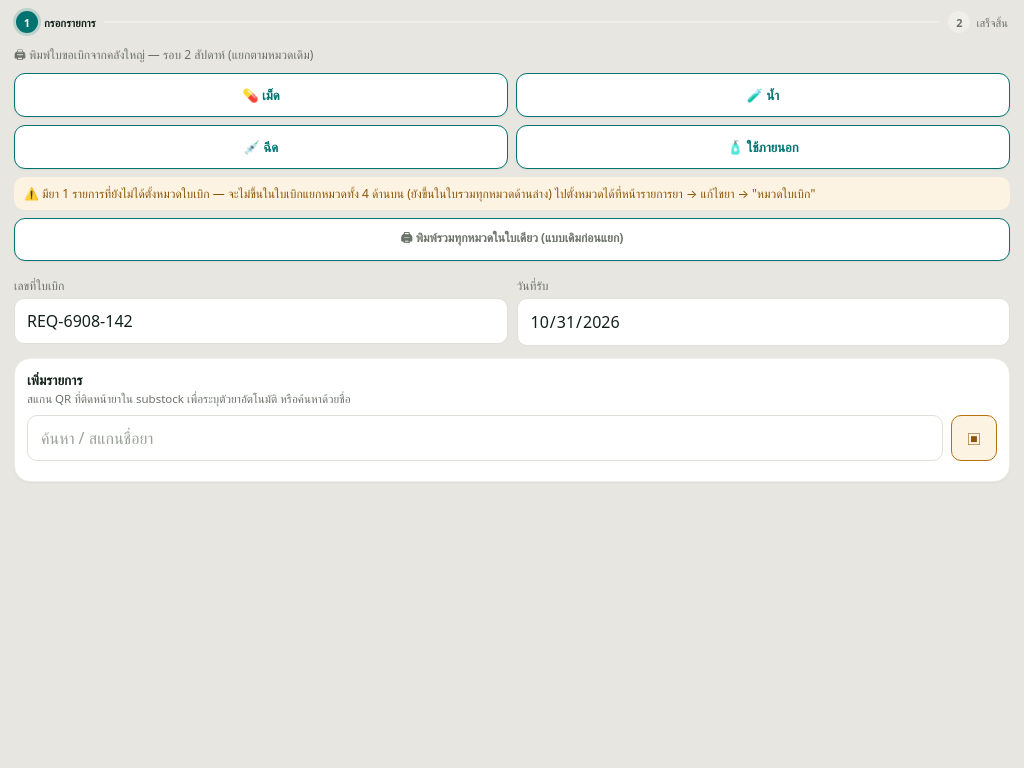
Scenario: ReceiveScreen — unconditional box-size badge regression › shows "กล่องละ N หน่วย" in the search-result row even with no current shortfall
Step 1. Type "Amoxi" into the field with placeholder "ค้นหา / สแกนชื่อยา" → point(485, 438), box x1=27 y1=415 x2=943 y2=461
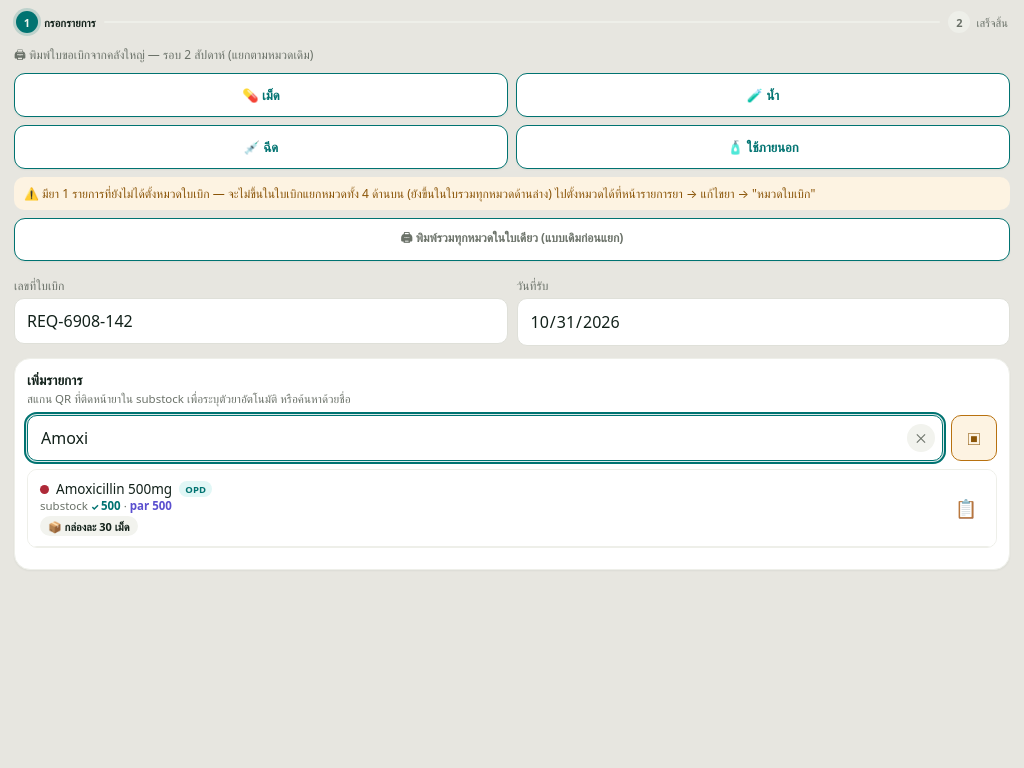
Expected: the text "Amoxicillin 500mg" is shown, x1=56 y1=480 x2=172 y2=498
Expected: the text "📦 กล่องละ 30 เม็ด" is shown, x1=40 y1=516 x2=138 y2=536
